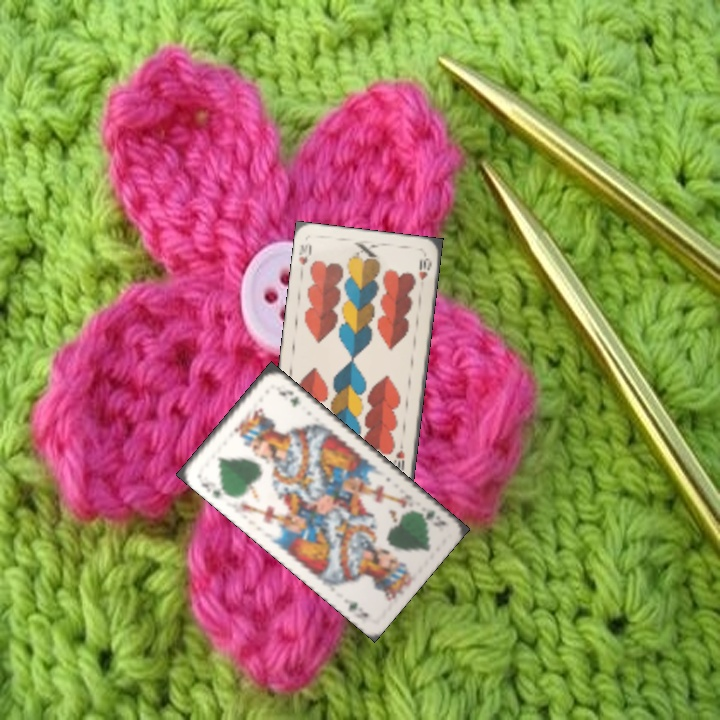GK: (194, 475, 230, 503), (412, 506, 448, 530)
H10: (295, 239, 314, 268), (392, 438, 407, 473)
